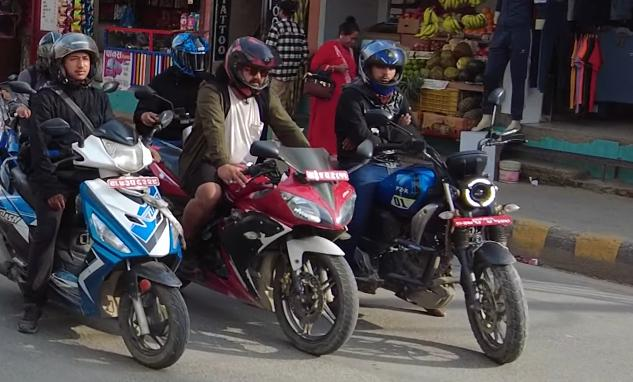bike: (341, 81, 537, 367), (168, 122, 355, 355)
